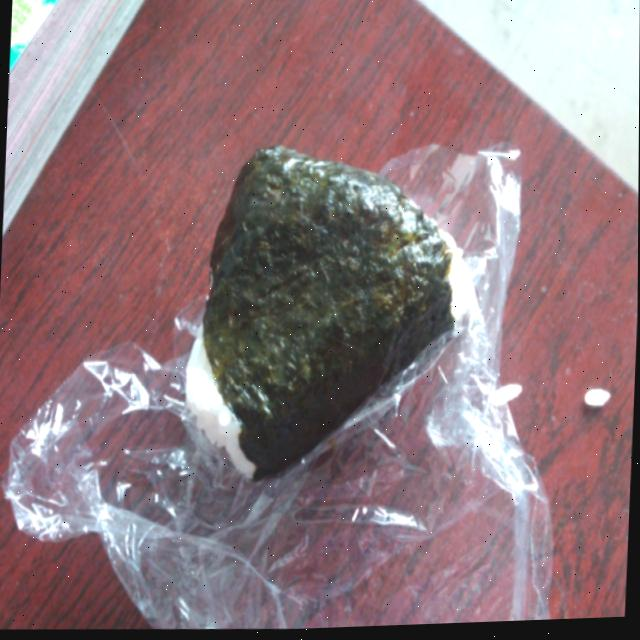米饭主食: (163, 128, 477, 491)
